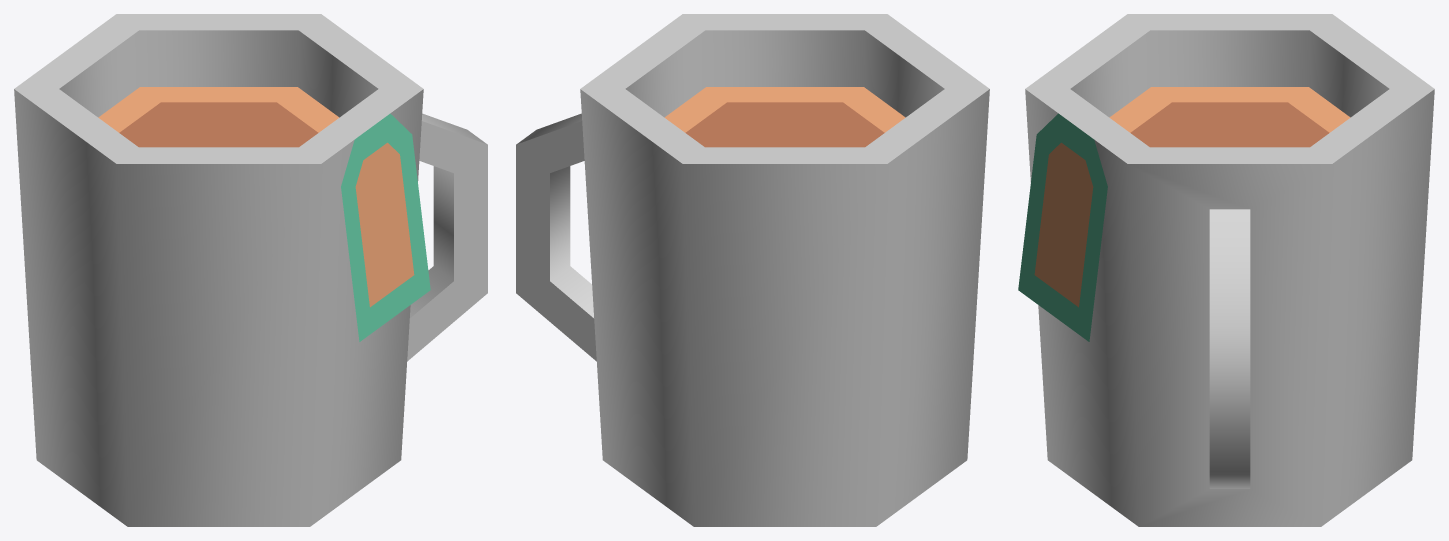
The model's file is CupTea.glb.
3 views of the same model, side by side, from view 1: azimuth 30°, elevation 25°; view 2: azimuth 150°, elevation 25°; view 3: azimuth 270°, elevation 25° (orthographic).
Parts seen in each view (by area): view 1: cupThea, label; view 2: cupThea; view 3: cupThea, label.
Boxes of the visible parts, box(x1,y1,x2,y2) form: cupThea: box(14, 14, 487, 526); label: box(341, 113, 430, 341); cupThea: box(516, 14, 989, 526); cupThea: box(1025, 14, 1434, 526); label: box(1018, 113, 1107, 341).
Size of the model in its own units: 0.2325 by 0.2 by 0.2034.
